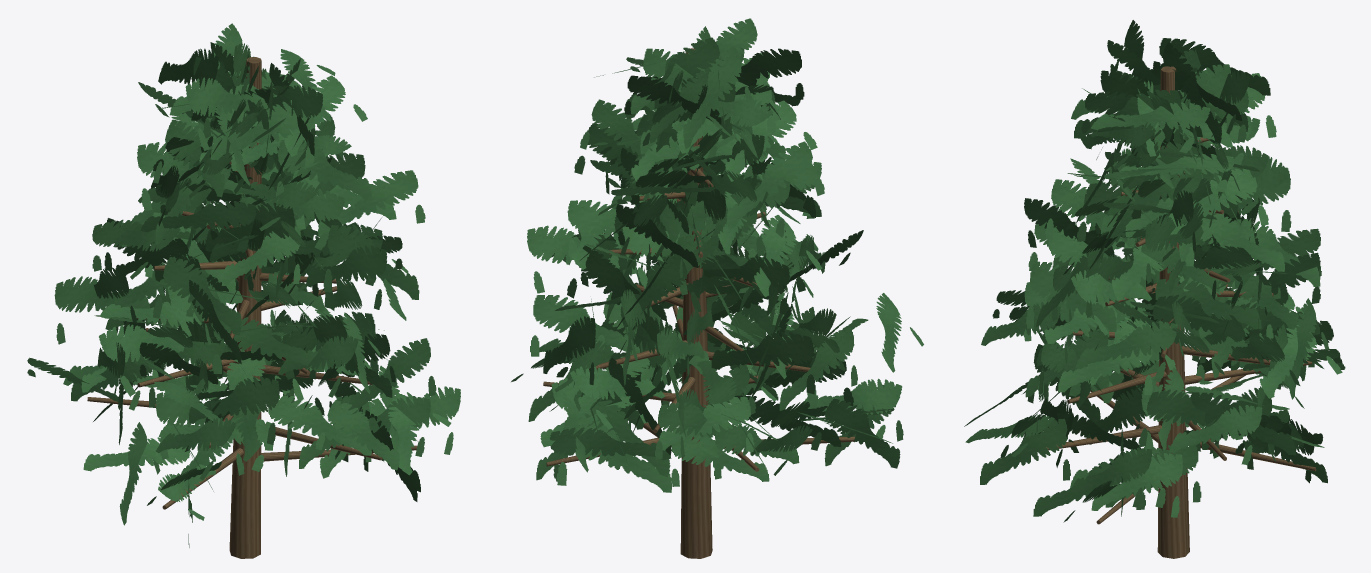
The picture shows the model from 3 angles, left to right: view 1: azimuth 30°, elevation 25°; view 2: azimuth 150°, elevation 25°; view 3: azimuth 270°, elevation 25°; orthographic projection. The views are drawn at different scales.
Parts seen in each view (by area): view 1: pine-needle, pine-bark; view 2: pine-needle, pine-bark; view 3: pine-needle, pine-bark.
Part boxes in pixels (box(x1,y1,x2,y2)): pine-needle: box(27, 23, 460, 547); pine-bark: box(87, 57, 417, 558); pine-needle: box(511, 18, 923, 492); pine-bark: box(543, 48, 858, 558); pine-needle: box(964, 20, 1345, 522); pine-bark: box(1037, 66, 1316, 558).
Bounding box in the file's own units: 7.9 × 10.46 × 7.46.
2 materials, 2 textured.
